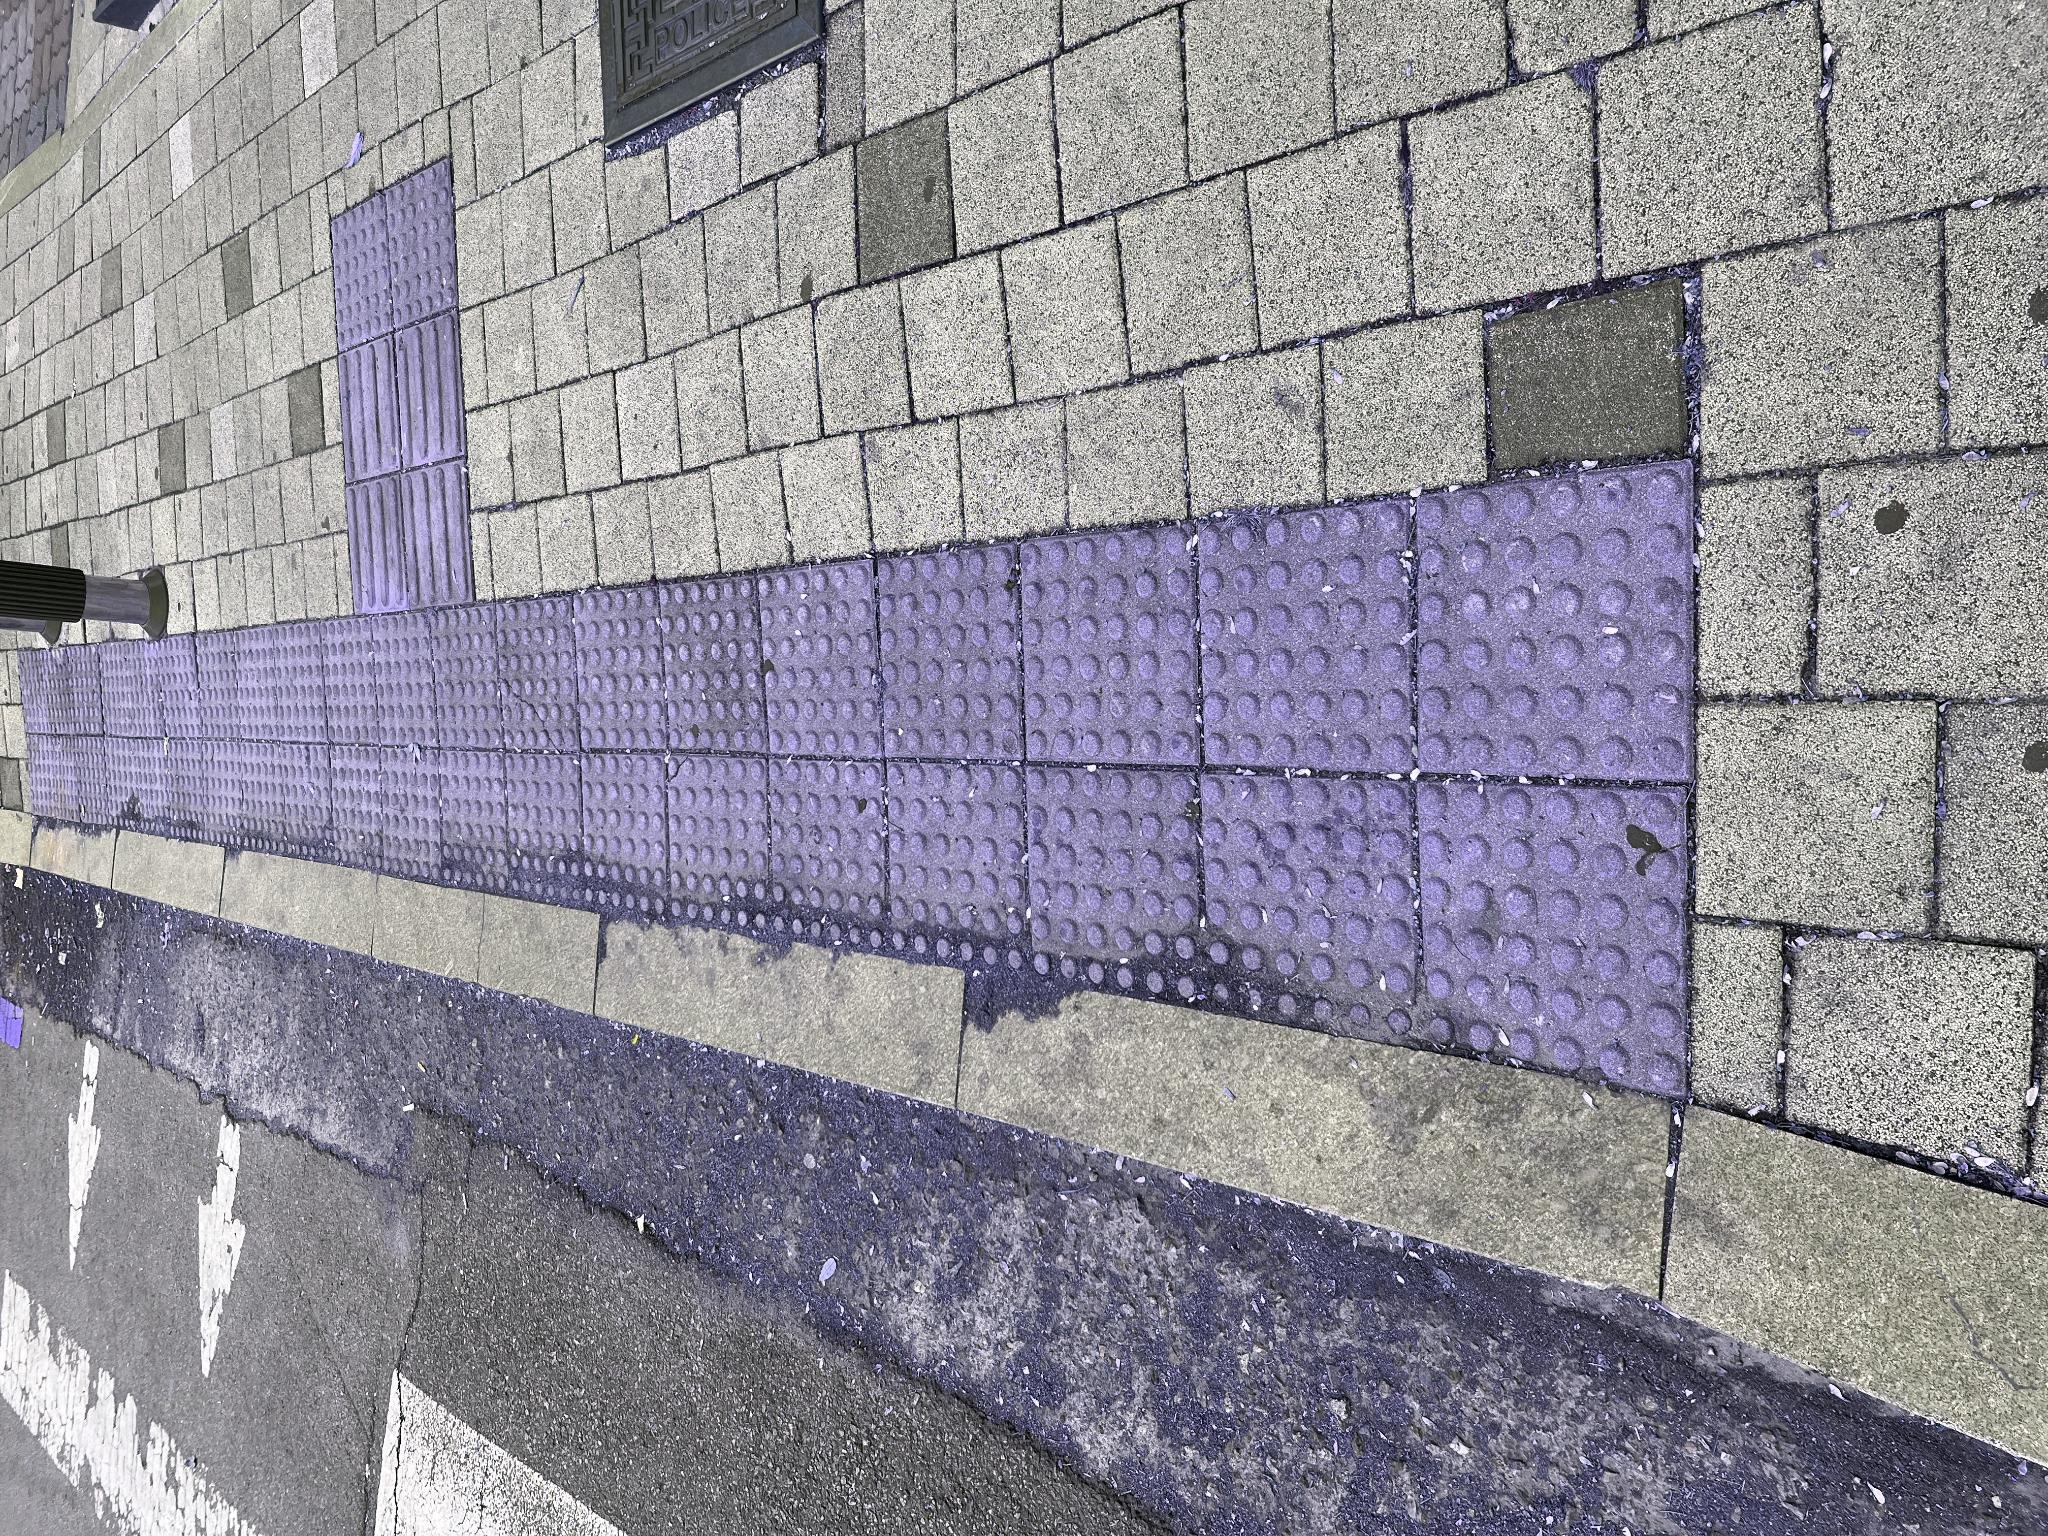Stop block normal: (764, 1199, 1035, 1407), (777, 879, 989, 1021), (1208, 386, 1377, 453), (651, 382, 789, 440), (795, 274, 914, 328)
